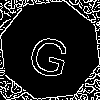G: (25, 25, 75, 81)
